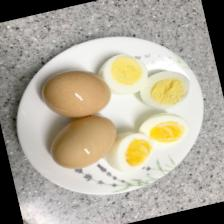egg: (44, 110, 123, 174), (36, 62, 115, 126), (92, 48, 152, 102), (99, 126, 160, 179), (134, 66, 194, 114), (134, 107, 194, 153)
